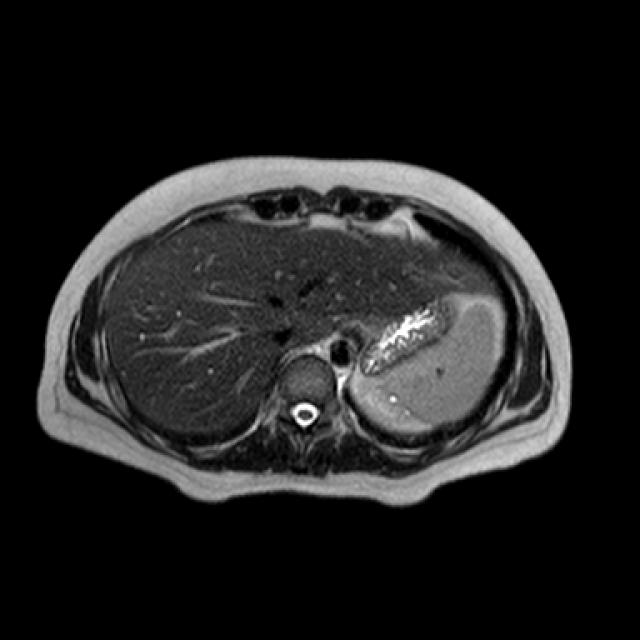sol: (355, 380, 428, 429)
